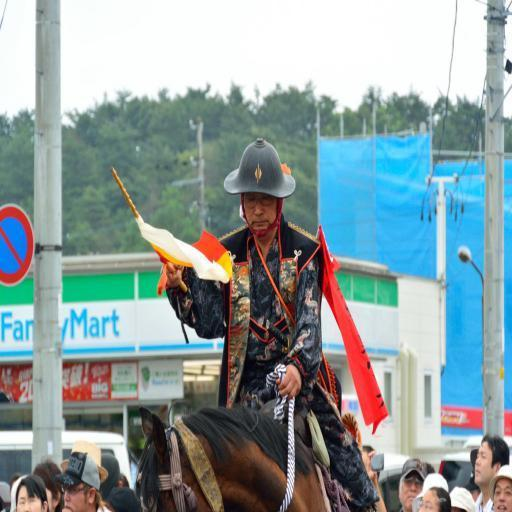horse: (127, 373, 336, 508)
